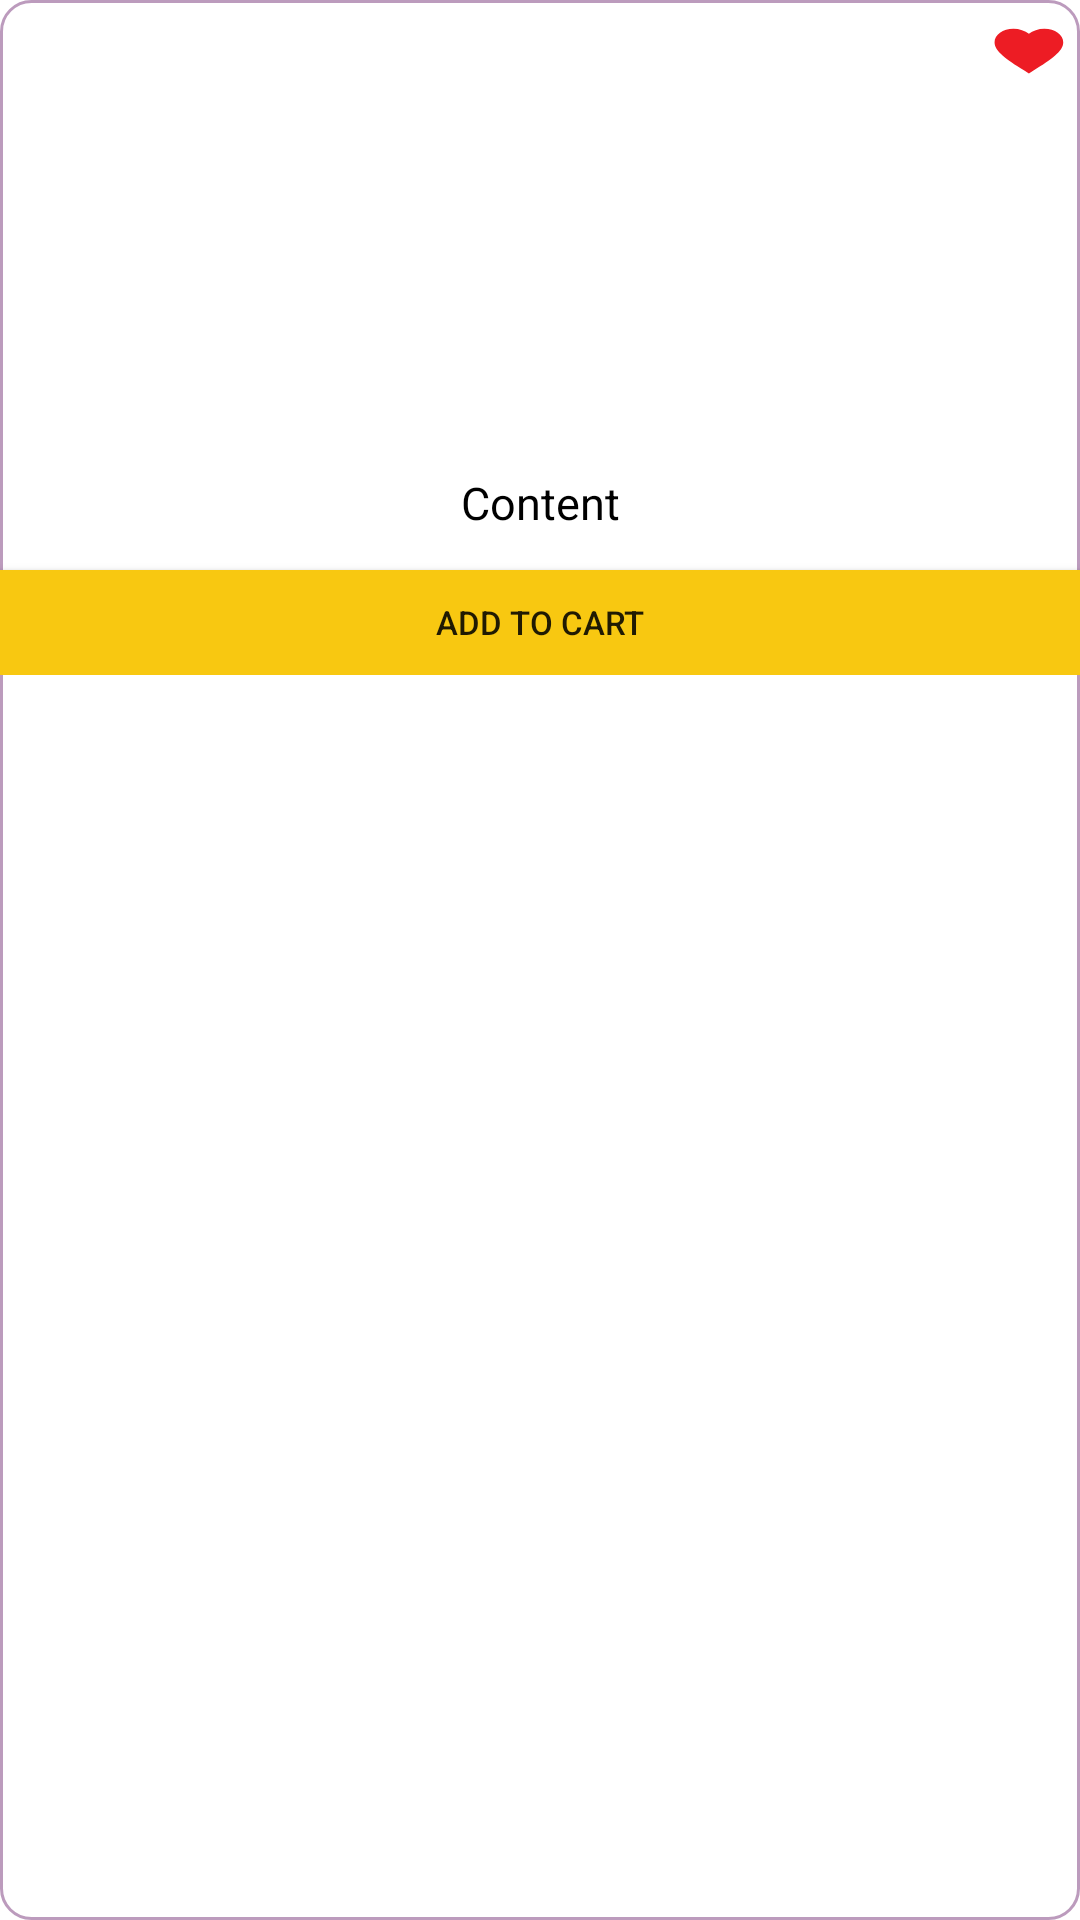

Point at icon controls on the screen. Image size 1080px x 1920px, points as (x,y).
heart: (1029,51)
